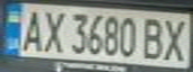0: (118, 14, 142, 58)
3: (66, 9, 90, 55)
6: (84, 11, 106, 56)
8: (103, 12, 121, 57)
A: (18, 6, 45, 53)
B: (139, 15, 169, 61)
X: (160, 15, 193, 63), (39, 7, 66, 54)
